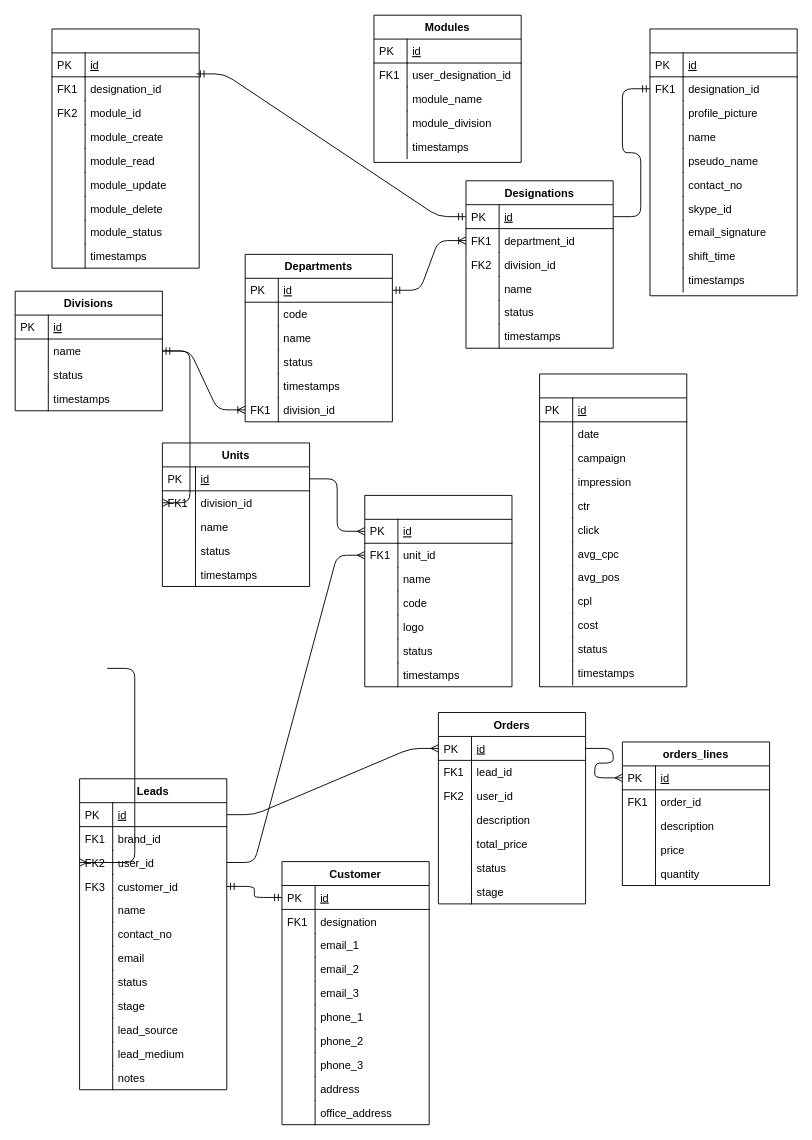
Some shapes in this 812 by 1140 pixel diagram are drawn without their labels. The box of each missing label's shape, as (x1, y1, x2, y2) in pixels:
Brand: (364, 494, 512, 687)
Permissions: (51, 28, 199, 268)
PPC: (539, 373, 687, 687)
Users: (649, 28, 797, 296)
